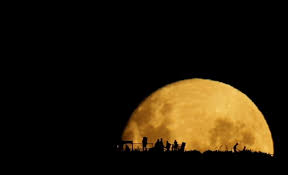moon: (114, 75, 274, 157)
